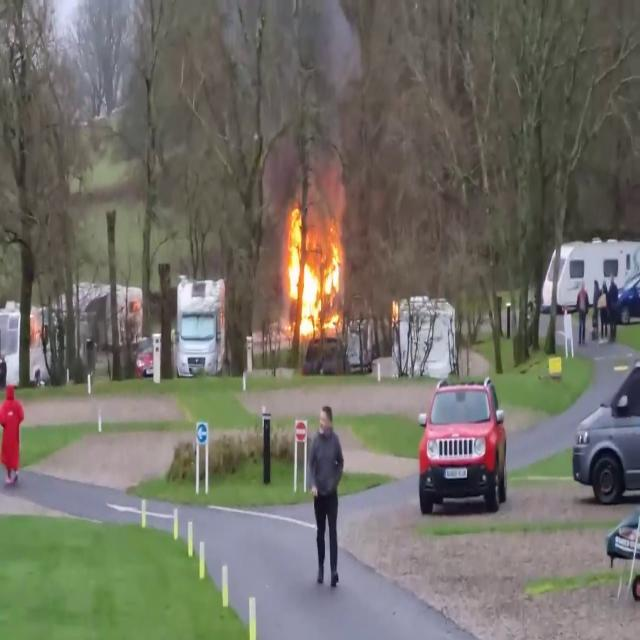Fire: (281, 201, 347, 338)
Smoke: (250, 2, 368, 210)
